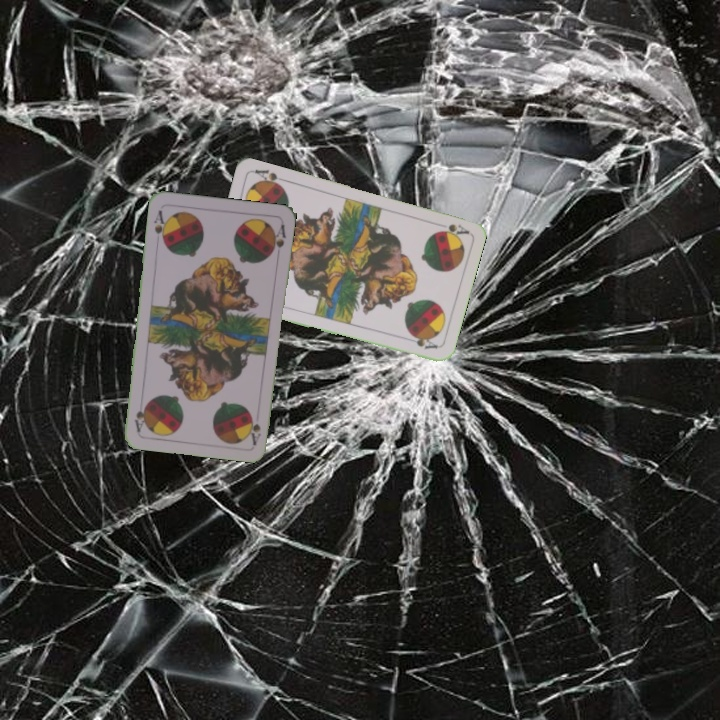SA: (149, 206, 170, 246), (434, 220, 471, 239), (247, 413, 264, 447)
